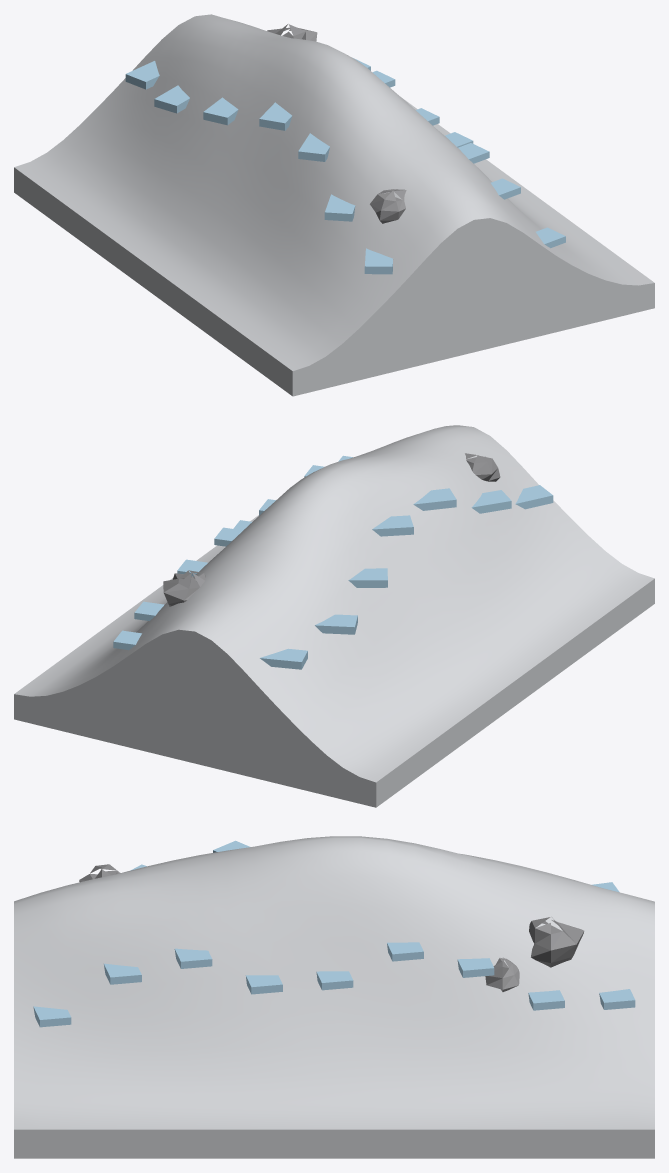
File: backcountry-snowboarding-and-avalanche-safety-ridge-mo-26e41328__18942.glb
3 renders of one model, top to bottom at view 1: azimuth 30°, elevation 25°; view 2: azimuth 150°, elevation 25°; view 3: azimuth 270°, elevation 25°, orthographic. The views are drawn at different scales.
Parts seen in each view (by area): view 1: ridge-module; view 2: ridge-module; view 3: ridge-module.
Boxes of the visible parts, x1=… form: ridge-module: x1=14, y1=14, x2=654, y2=396; ridge-module: x1=14, y1=425, x2=654, y2=807; ridge-module: x1=14, y1=836, x2=654, y2=1158.
Size of the model in its own units: 3 by 1.51 by 4.
